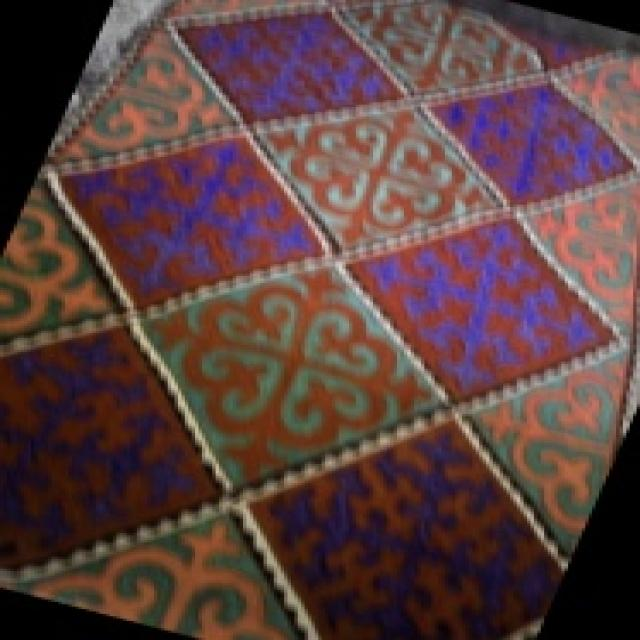Unity: (142, 267, 446, 488), (26, 515, 306, 638), (256, 110, 500, 245), (471, 353, 628, 561), (50, 29, 232, 163), (0, 187, 118, 339), (524, 179, 637, 337)
